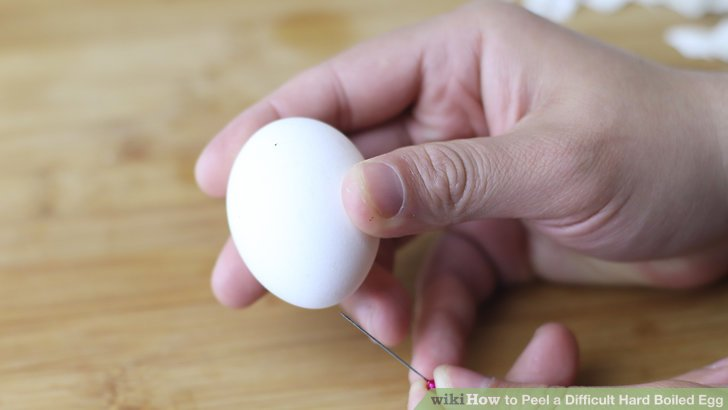Egg: (223, 111, 379, 311)
